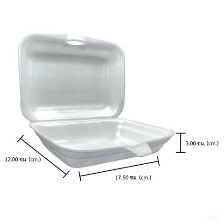foam_box: (11, 27, 178, 171)
